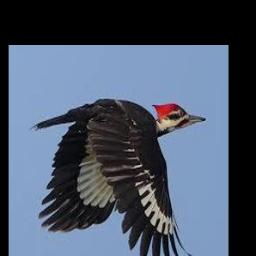Woodpecker: (28, 98, 205, 256)
